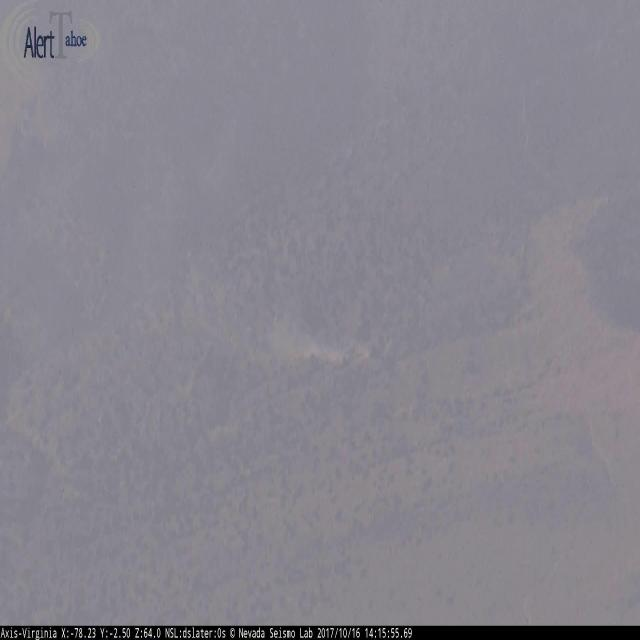smoke: (210, 276, 378, 369)
